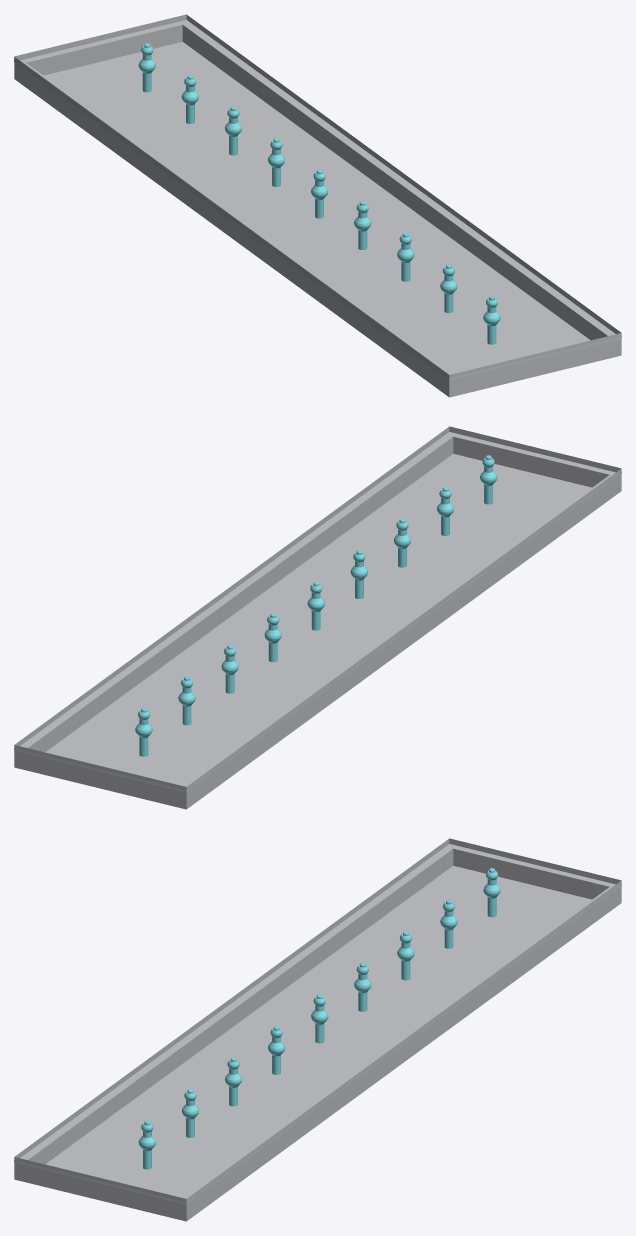
Rendered from Pool.fbx.
The picture shows the model from 3 angles, top to bottom: view 1: azimuth 30°, elevation 25°; view 2: azimuth 150°, elevation 25°; view 3: azimuth 330°, elevation 25°; orthographic projection.
Visible parts, largest first — view 1: Cube, Cylinder.001; view 2: Cube, Cylinder.001; view 3: Cube, Cylinder.001.
Boxes of the visible parts, x1=… form: Cube: x1=14, y1=14, x2=621, y2=397; Cylinder.001: x1=138, y1=43, x2=500, y2=344; Cube: x1=14, y1=426, x2=621, y2=809; Cylinder.001: x1=135, y1=455, x2=497, y2=756; Cube: x1=14, y1=838, x2=621, y2=1221; Cylinder.001: x1=138, y1=868, x2=500, y2=1169.
Bounding box in the file's own units: 801 × 206 × 3501.
